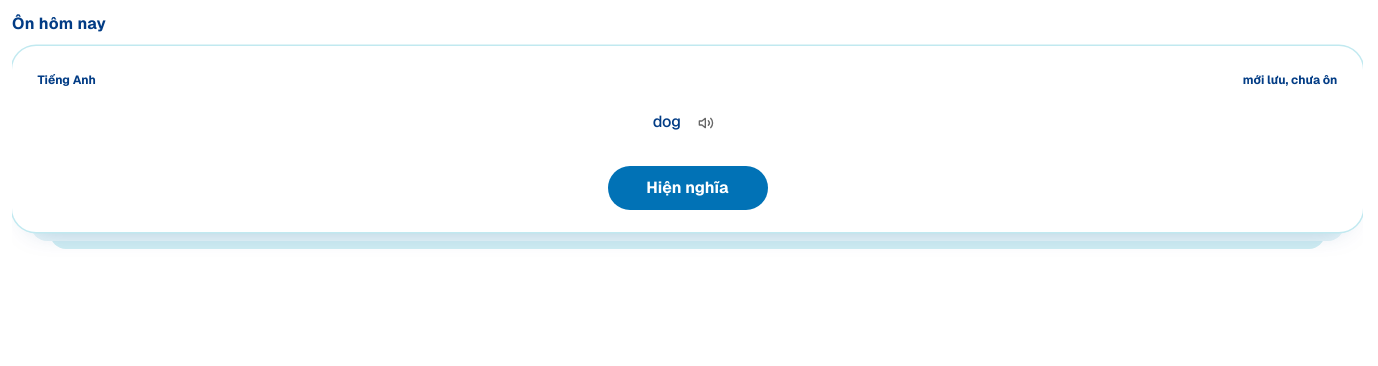
Test: HomeReviewDeck › keeps the word on screen when the write fails
Click the button "Hiện nghĩa" at (688, 188), box [608,166,768,210]
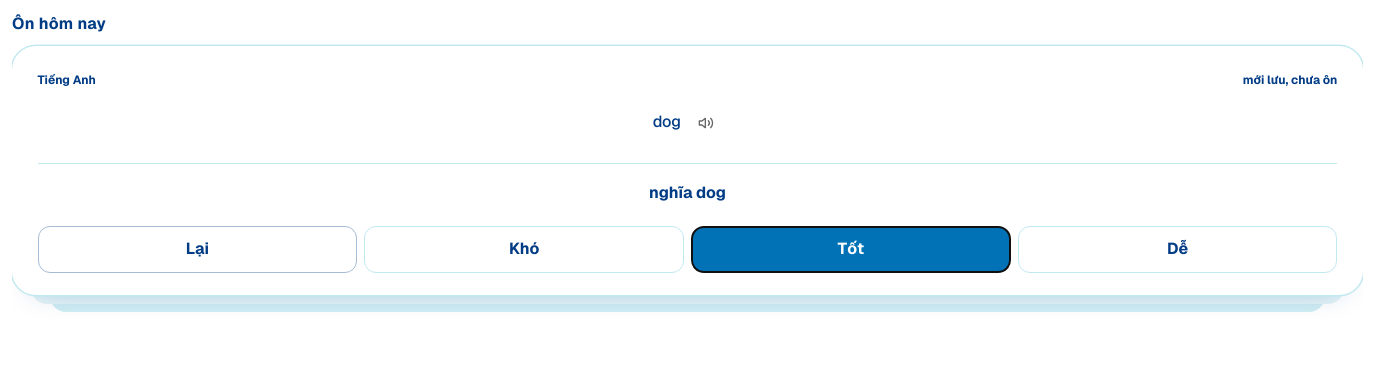
Click the button "Tốt" at (851, 249), box [691,226,1011,273]
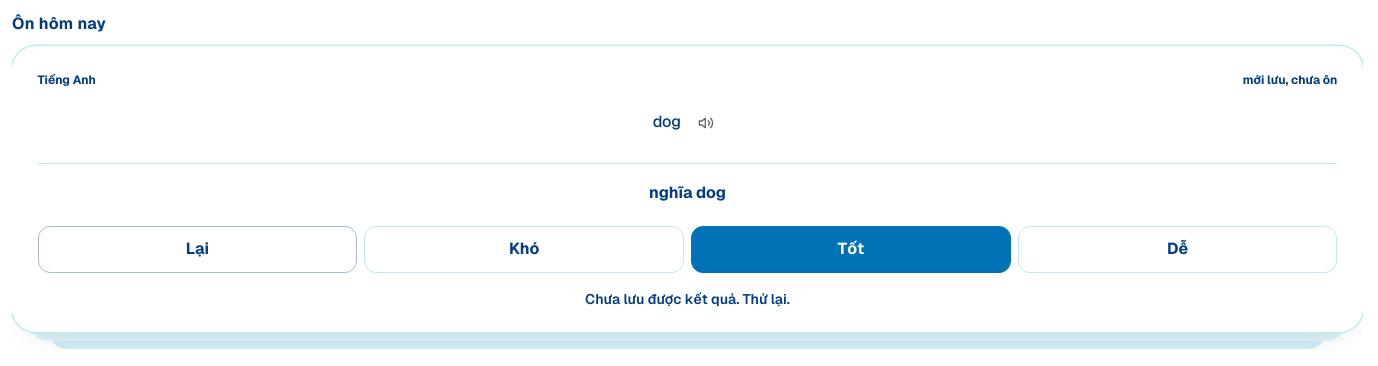
Expected: the text "dog" is shown, [653,114,681,131]
Expected: the text "Chưa lưu được kết quả. Thử lại." is shown, [585,290,790,308]
